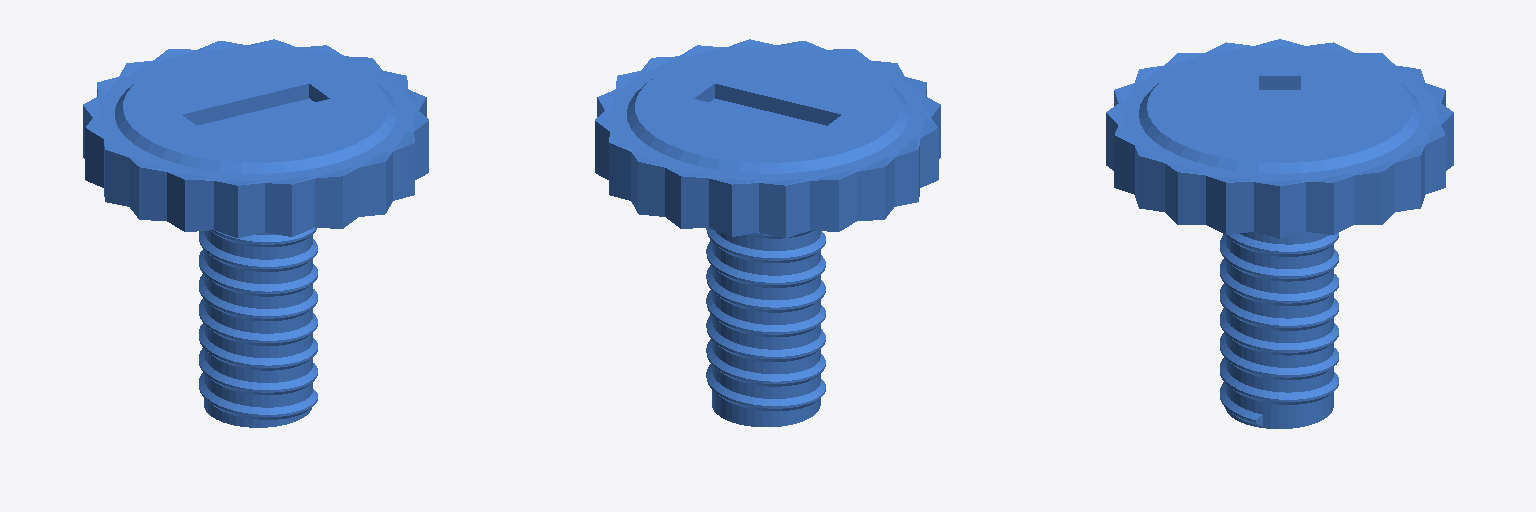
The picture shows the model from 3 angles: view 1: azimuth 30°, elevation 25°; view 2: azimuth 150°, elevation 25°; view 3: azimuth 270°, elevation 25°; orthographic projection.
Parts seen in each view (by area): view 1: Helix001; view 2: Helix001; view 3: Helix001.
Boxes of the visible parts, box(x1,y1,x2,y2) form: Helix001: box(83, 39, 428, 427); Helix001: box(595, 39, 940, 426); Helix001: box(1106, 39, 1453, 428).
Bounding box in the file's own units: 1.28 × 1.21 × 1.28.